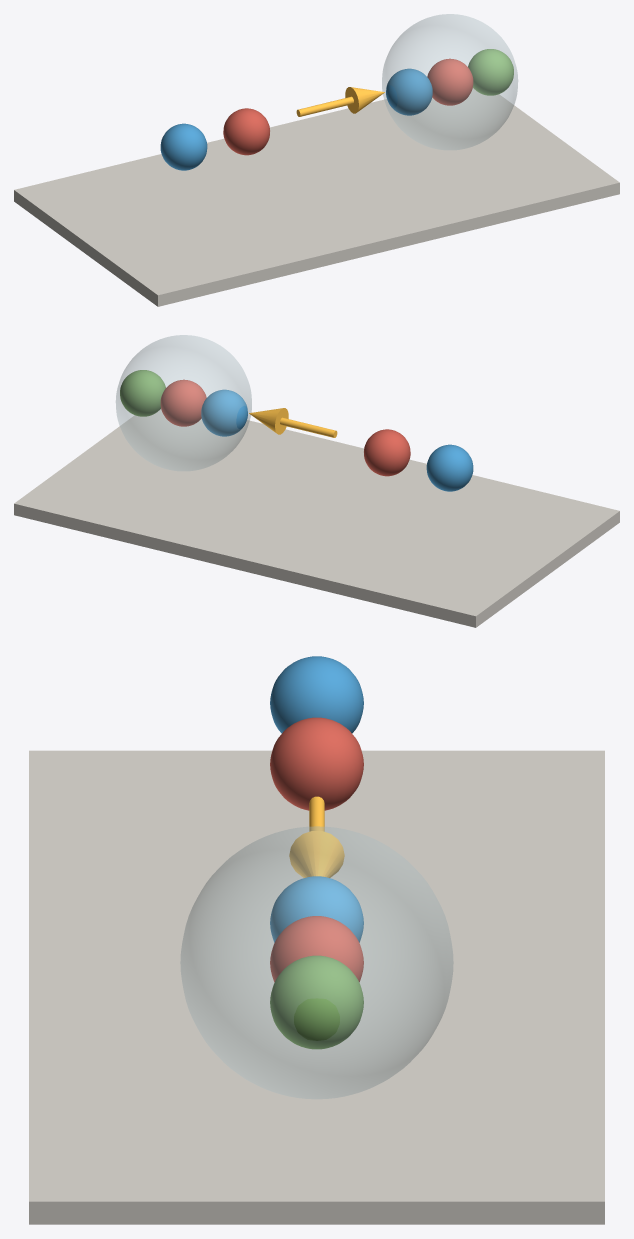
Rendered from chem-reaction-product.glb.
3 renders of one model, top to bottom at view 1: azimuth 30°, elevation 25°; view 2: azimuth 150°, elevation 25°; view 3: azimuth 270°, elevation 25°, orthographic. The views are drawn at different scales.
Visible parts, largest first — view 1: reaction-base, product-highlight-ring, atom-1 (×3), atom-2, atom-3, forms-product-arrow-head, forms-product-arrow-shaft; view 2: reaction-base, product-highlight-ring, atom-1 (×3), atom-2, atom-3, forms-product-arrow-head, forms-product-arrow-shaft; view 3: reaction-base, product-highlight-ring, atom-1 (×3), atom-3, atom-2, forms-product-arrow-head.
Boxes of the visible parts, x1,y1,x2,y2 form: reaction-base: (14,88,619,306); product-highlight-ring: (382,14,517,149); atom-1 (×3): (160,68,432,170); atom-2: (427,58,473,105); atom-3: (468,49,513,95); forms-product-arrow-head: (345,87,384,113); forms-product-arrow-shaft: (296,96,353,116); reaction-base: (14,409,619,627); product-highlight-ring: (116,335,251,470); atom-1 (×3): (201,389,473,491); atom-2: (160,379,206,426); atom-3: (120,370,165,416); forms-product-arrow-head: (249,408,288,434); forms-product-arrow-shaft: (280,417,337,437); reaction-base: (29,750,604,1224); product-highlight-ring: (180,826,453,1098); atom-1 (×3): (270,656,363,942); atom-3: (270,955,363,1049); atom-2: (270,916,363,982); forms-product-arrow-head: (289,831,344,877).
Size of what is drawn, in the model's own units: 2.5 by 0.75 by 1.35.
